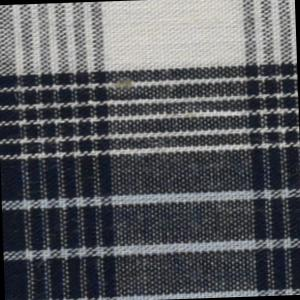Stain: (116, 78, 134, 92)
